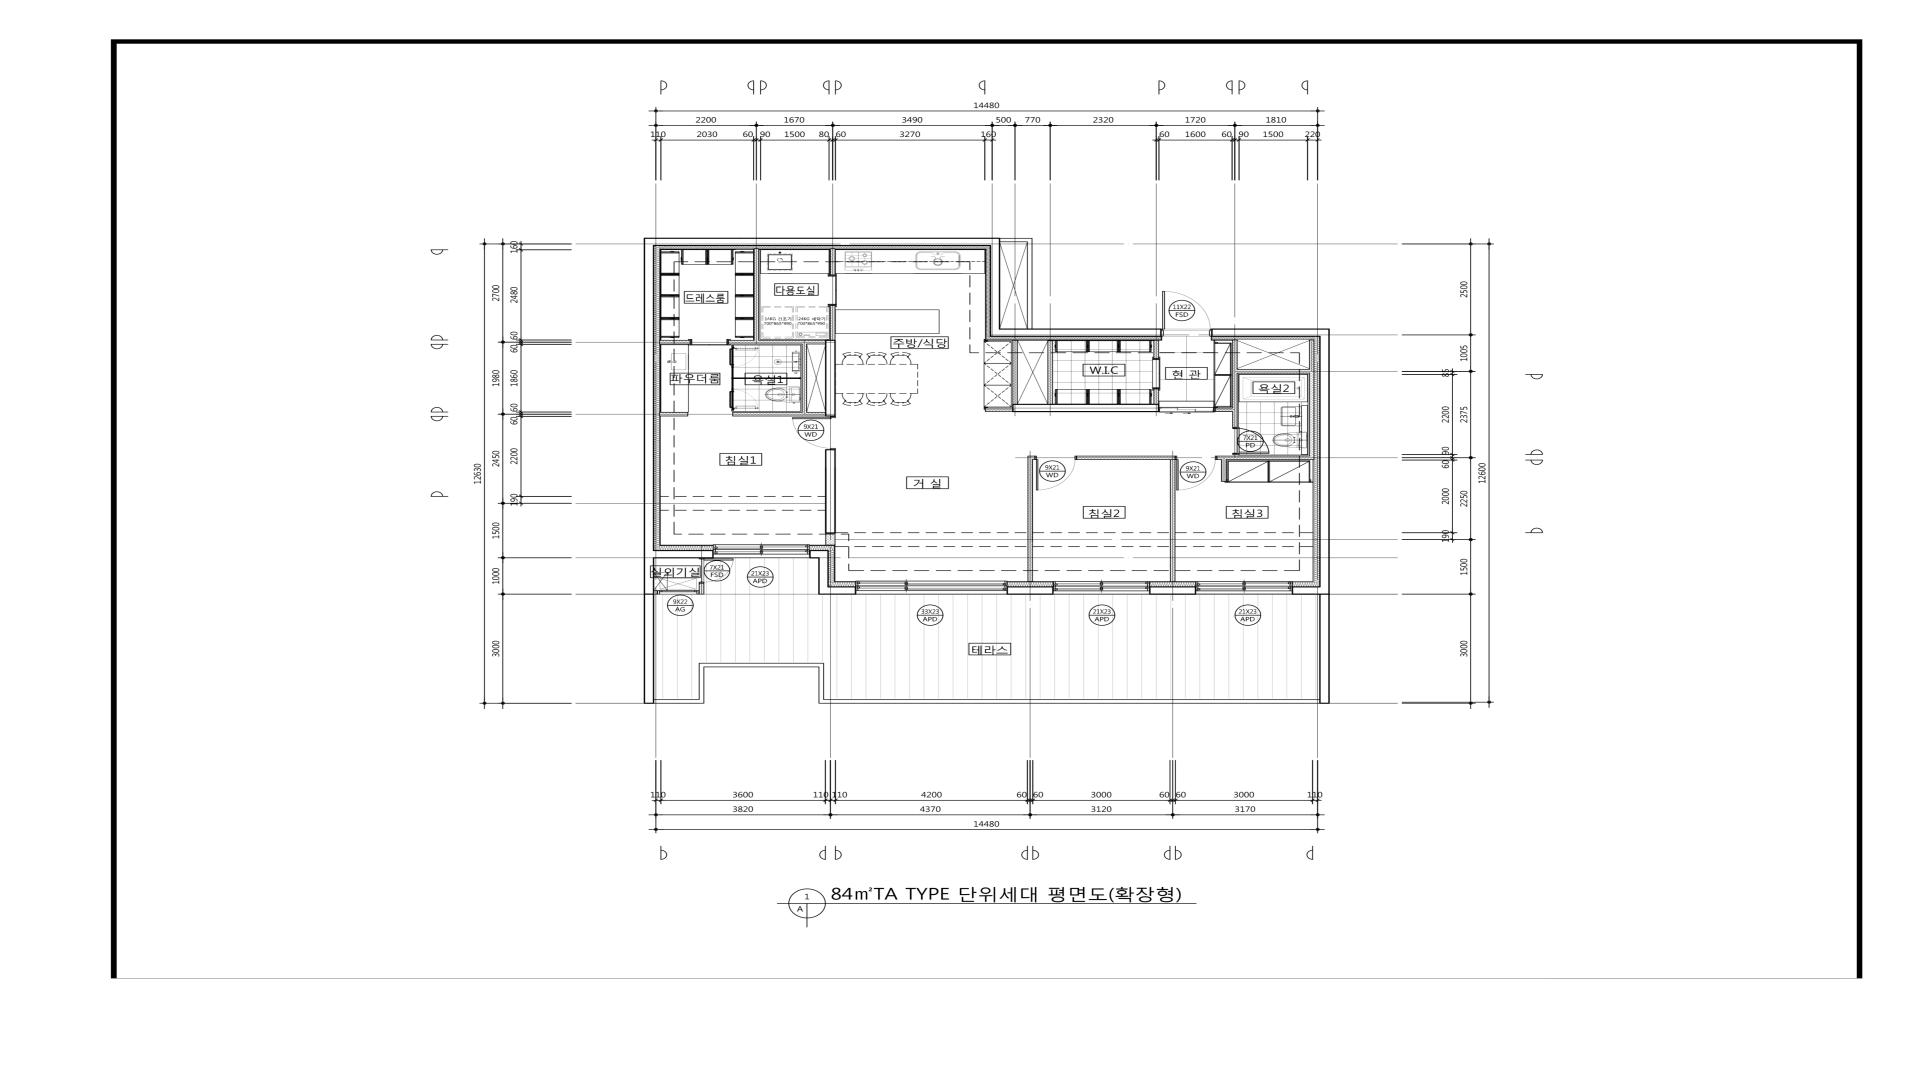door: (1160, 291, 1212, 338), (1175, 455, 1218, 491), (791, 417, 836, 450), (1035, 456, 1077, 491), (1233, 427, 1270, 455), (699, 558, 735, 583), (827, 274, 837, 306), (1159, 407, 1215, 413), (690, 339, 729, 345)
wall: (644, 237, 654, 595), (654, 237, 1000, 247), (1320, 336, 1331, 587), (1013, 404, 1159, 413), (1001, 328, 1162, 336), (824, 450, 836, 534), (1027, 456, 1035, 582), (990, 247, 1001, 336), (1212, 328, 1329, 336), (825, 340, 836, 417), (1170, 460, 1176, 582), (1309, 340, 1315, 456), (754, 248, 760, 340), (733, 411, 825, 417), (654, 550, 713, 558), (1006, 585, 1054, 595), (1076, 456, 1176, 460), (1217, 456, 1315, 460), (729, 340, 825, 344), (1150, 587, 1196, 595), (802, 344, 807, 411), (1233, 340, 1237, 427), (1013, 340, 1018, 404), (1047, 340, 1052, 404), (818, 587, 856, 595), (1292, 587, 1331, 595), (1237, 369, 1309, 373), (819, 558, 828, 587), (829, 306, 835, 340), (829, 249, 836, 276), (810, 550, 828, 558), (659, 340, 690, 344), (659, 413, 688, 417), (1221, 460, 1226, 481), (985, 407, 1013, 411), (1154, 340, 1159, 359), (825, 534, 835, 545), (1154, 389, 1159, 404), (699, 583, 704, 595), (654, 591, 657, 595)
window: (856, 580, 1007, 595), (713, 545, 810, 558), (1054, 582, 1150, 595), (1196, 582, 1292, 595), (657, 591, 699, 595)
